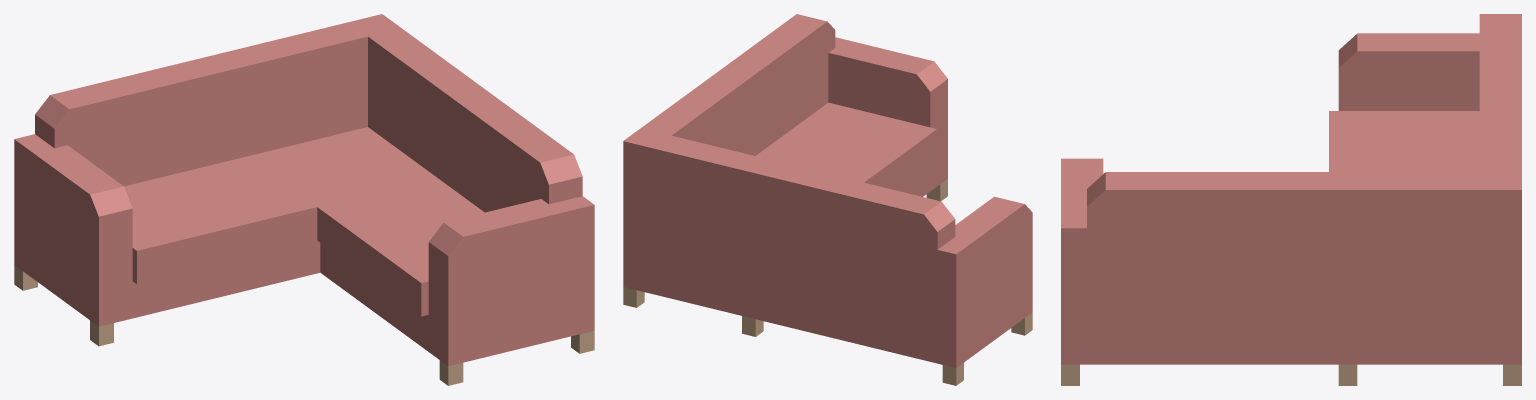
The model's file is loungeSofaCorner.glb.
3 renders of one model, left to right at view 1: azimuth 30°, elevation 25°; view 2: azimuth 150°, elevation 25°; view 3: azimuth 270°, elevation 25°, orthographic. The views are drawn at different scales.
Parts seen in each view (by area): view 1: loungeSofaCorner; view 2: loungeSofaCorner; view 3: loungeSofaCorner.
Part boxes in pixels (x1,y1,x2,y2): loungeSofaCorner: (14,14,594,385); loungeSofaCorner: (623,14,1032,385); loungeSofaCorner: (1061,14,1521,385).
Size of the model in its own units: 0.98 by 0.46 by 0.98.
